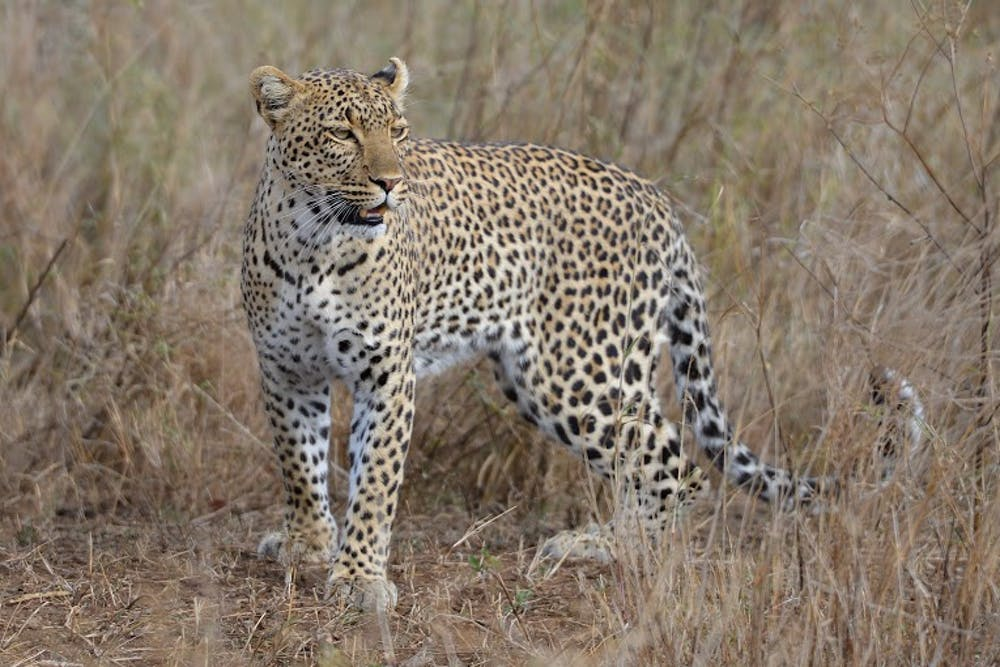cheetah: (241, 43, 424, 240)
